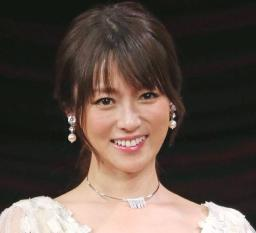face: (88, 65, 166, 174)
